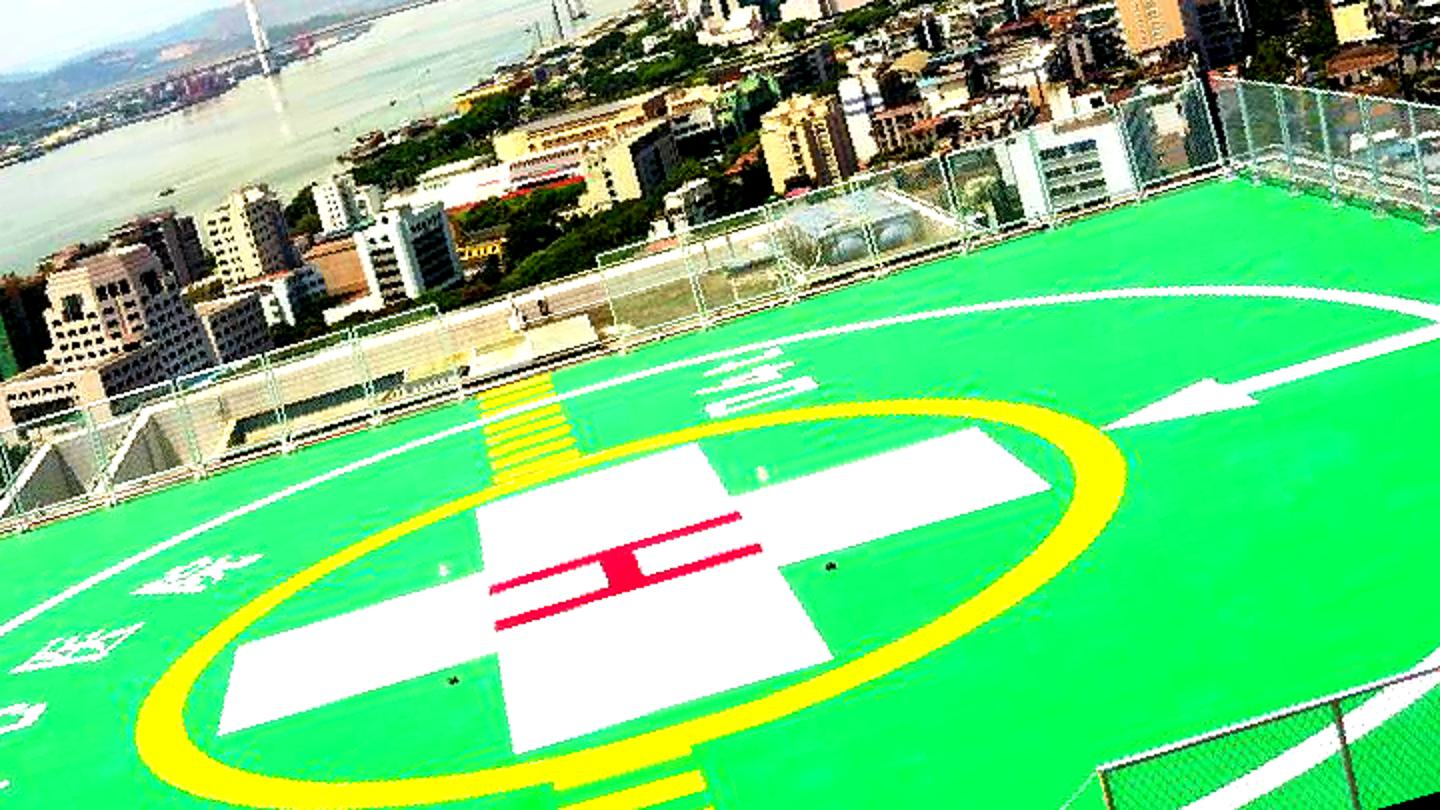Apron: (121, 384, 1136, 804)
